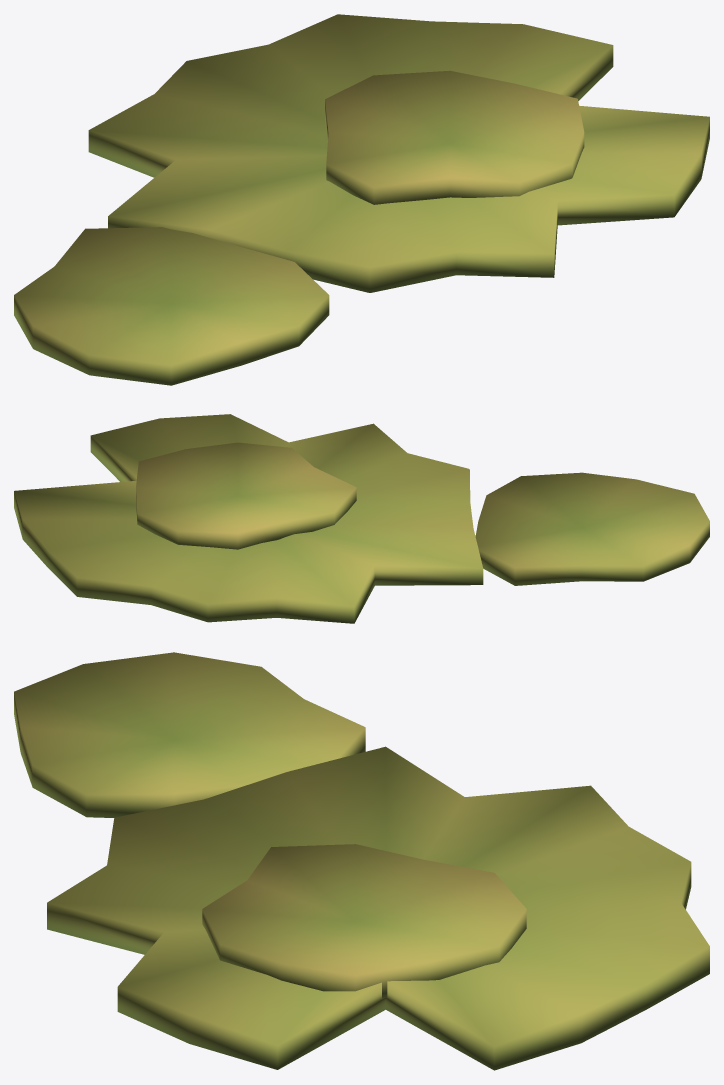
Rendered from lichen.lod2.glb.
The picture shows the model from 3 angles, top to bottom: view 1: azimuth 30°, elevation 25°; view 2: azimuth 150°, elevation 25°; view 3: azimuth 270°, elevation 25°; orthographic projection. The views are drawn at different scales.
Parts seen in each view (by area): view 1: lichen_s1_lod2; view 2: lichen_s1_lod2; view 3: lichen_s1_lod2.
Part boxes in pixels (bbox=[...]): lichen_s1_lod2: bbox=[14, 14, 709, 385]; lichen_s1_lod2: bbox=[14, 414, 709, 623]; lichen_s1_lod2: bbox=[14, 652, 709, 1070].
Size of the model in its own units: 0.3703 by 0.0184 by 0.2775.
